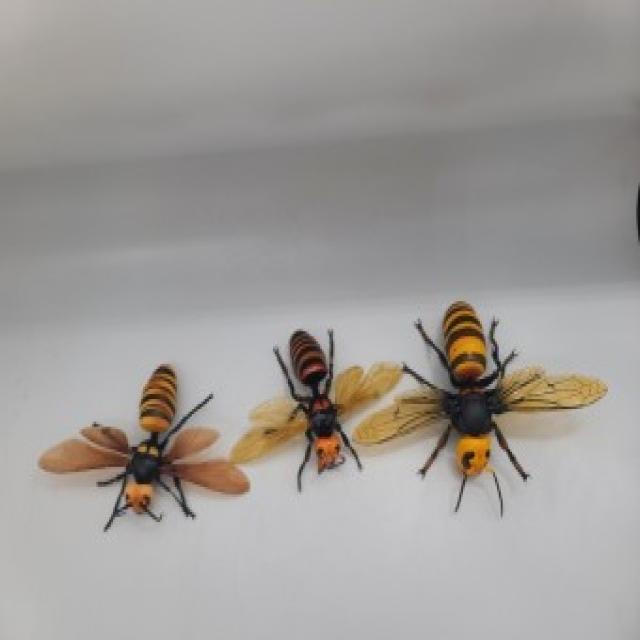Wasp: (413, 278, 604, 522), (32, 339, 246, 518), (230, 302, 402, 492)
